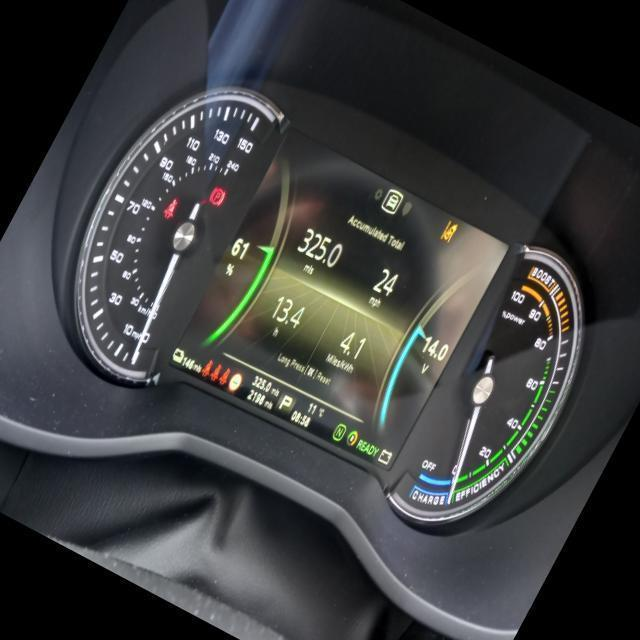Seat Belt: (162, 198, 180, 218), (210, 363, 222, 381), (220, 368, 231, 386), (202, 359, 212, 377)
